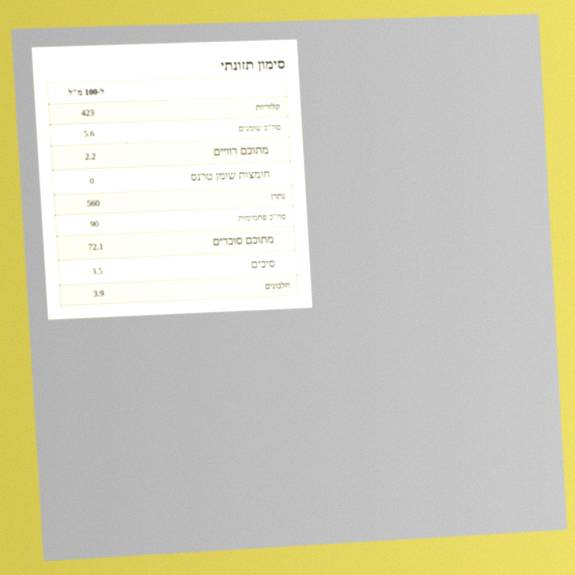carbs: (89, 218, 100, 230)
energy: (80, 107, 96, 119)
fat: (82, 128, 96, 139)
protein: (92, 288, 105, 299)
